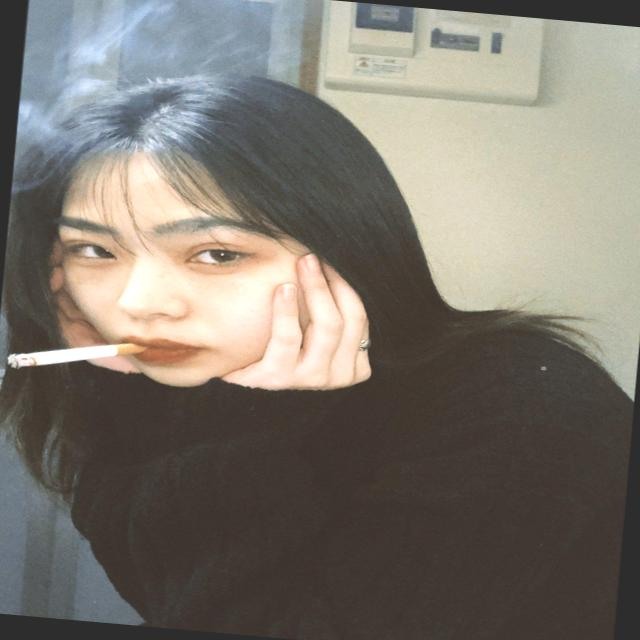smoke: (0, 330, 185, 401)
